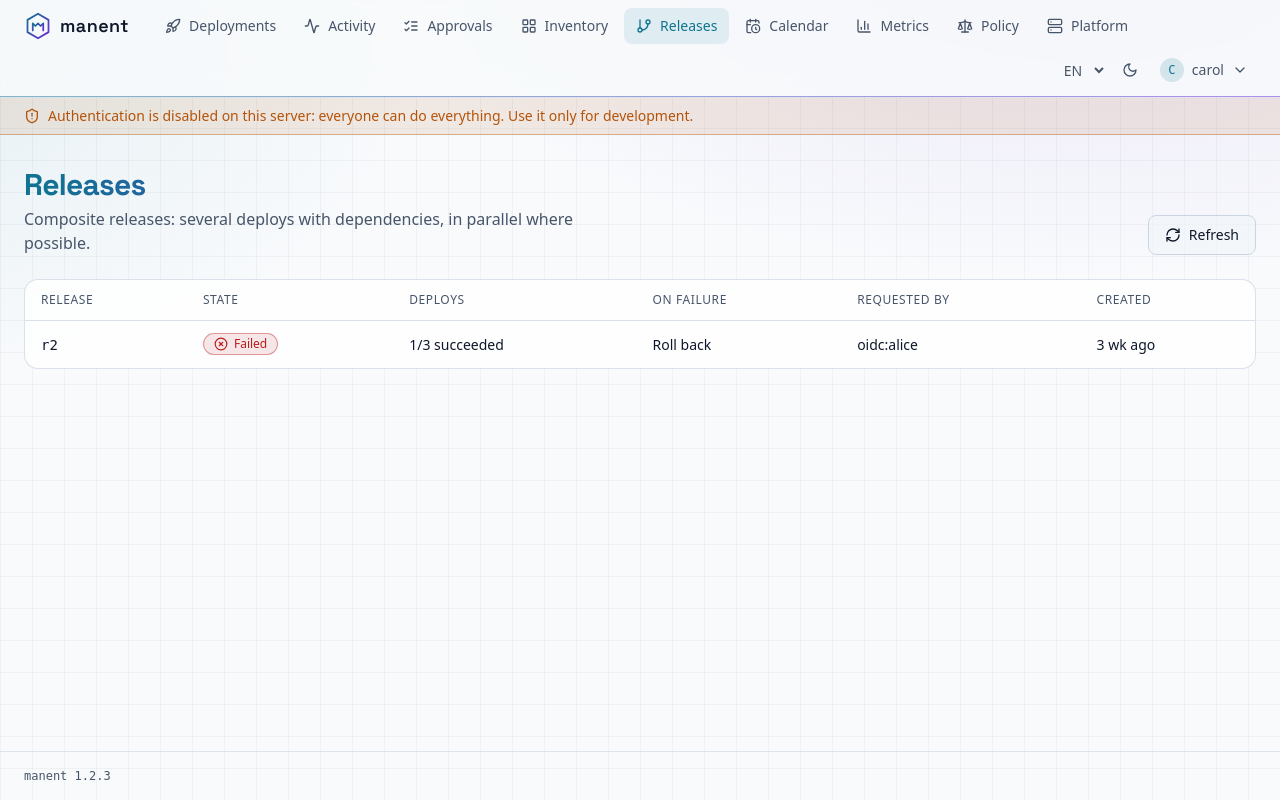
catene › mostra una release con i deploy e il rollback
The image size is (1280, 800).
Expected: the text "1/3 succeeded" is shown, top-left (393, 321), bottom-right (636, 368)
Click the link "r2".
click(49, 344)  # box top-left (41, 336), bottom-right (58, 352)
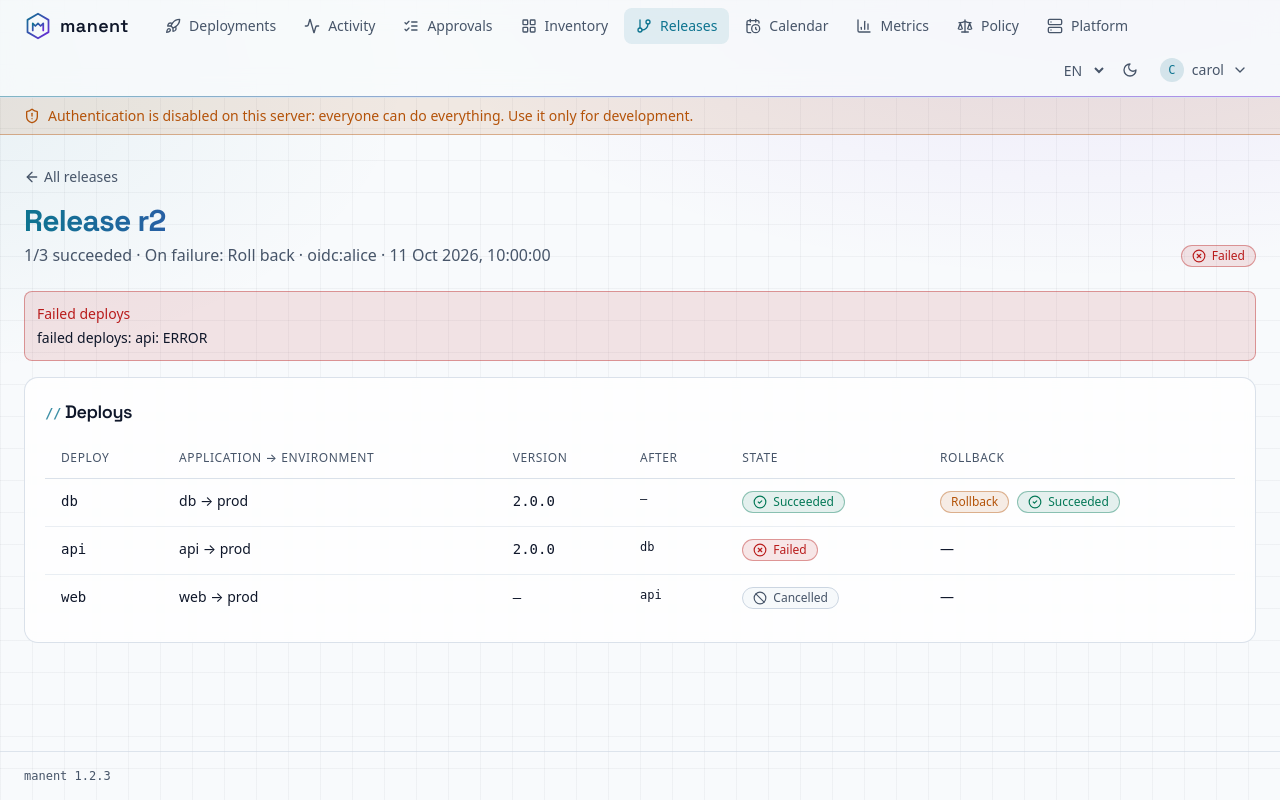
Expected: the row "db db → prod 2.0.0 — Succeeded Rollback Succeeded" is shown, top-left (45, 479), bottom-right (1235, 526)
Expected: the row "api api → prod 2.0.0 db Failed —" is shown, top-left (45, 526), bottom-right (1235, 574)
Expected: the message shows "api: ERROR", top-left (37, 328), bottom-right (208, 347)
